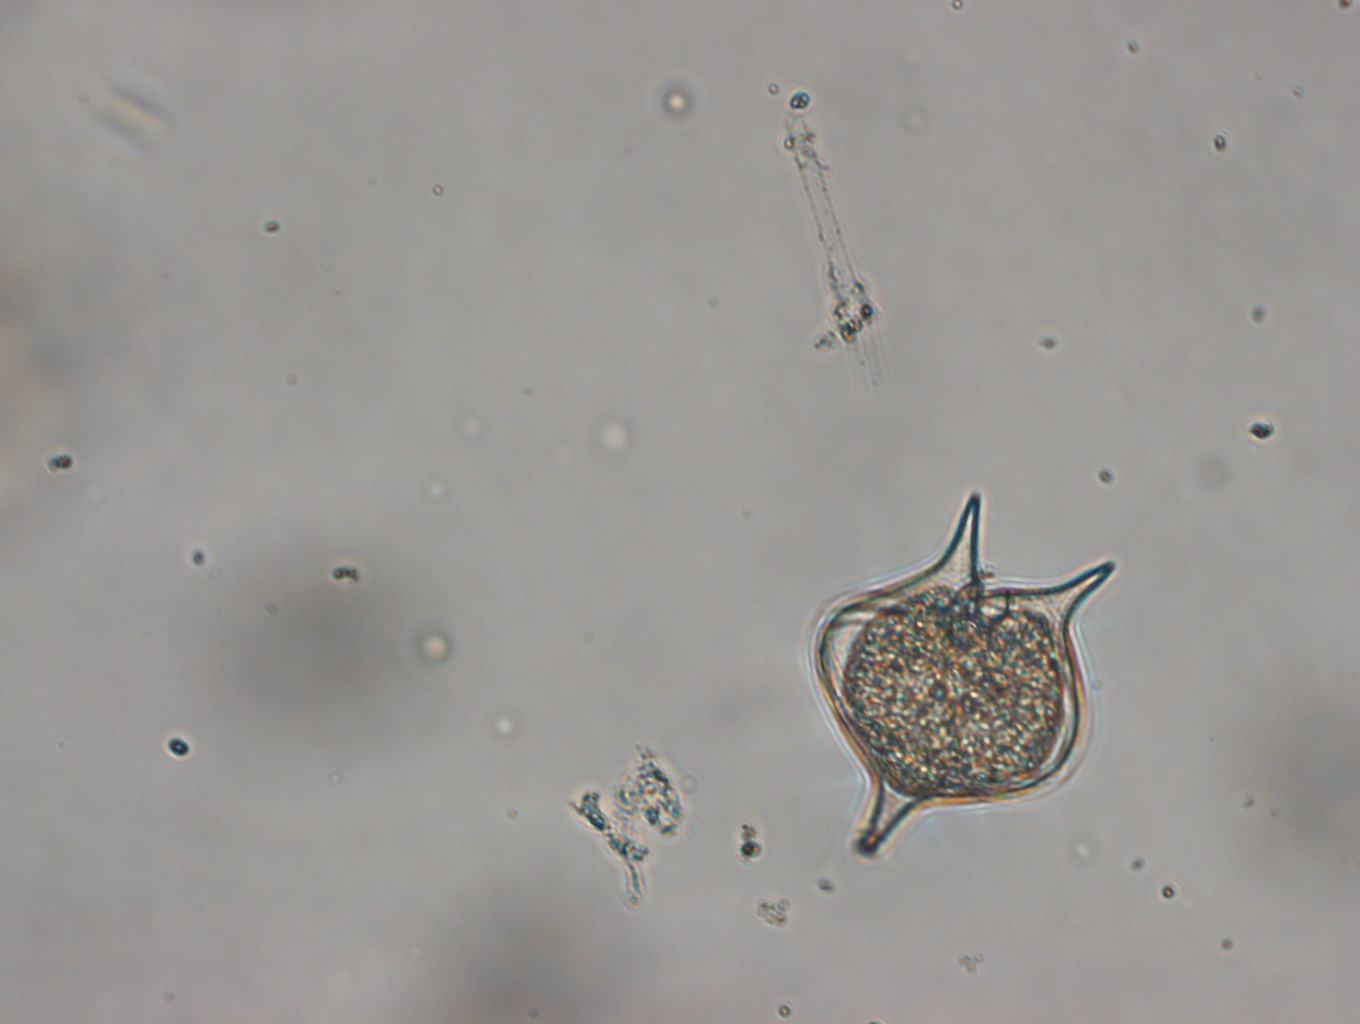protoperidinium: (802, 490, 1129, 851)
